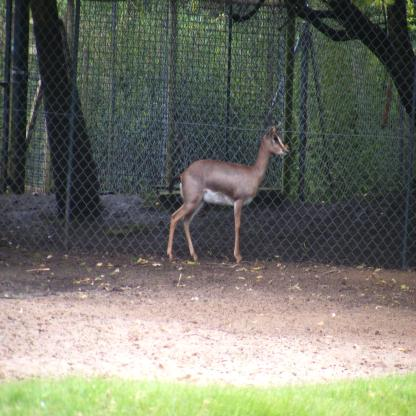Deer: (166, 118, 290, 262)
